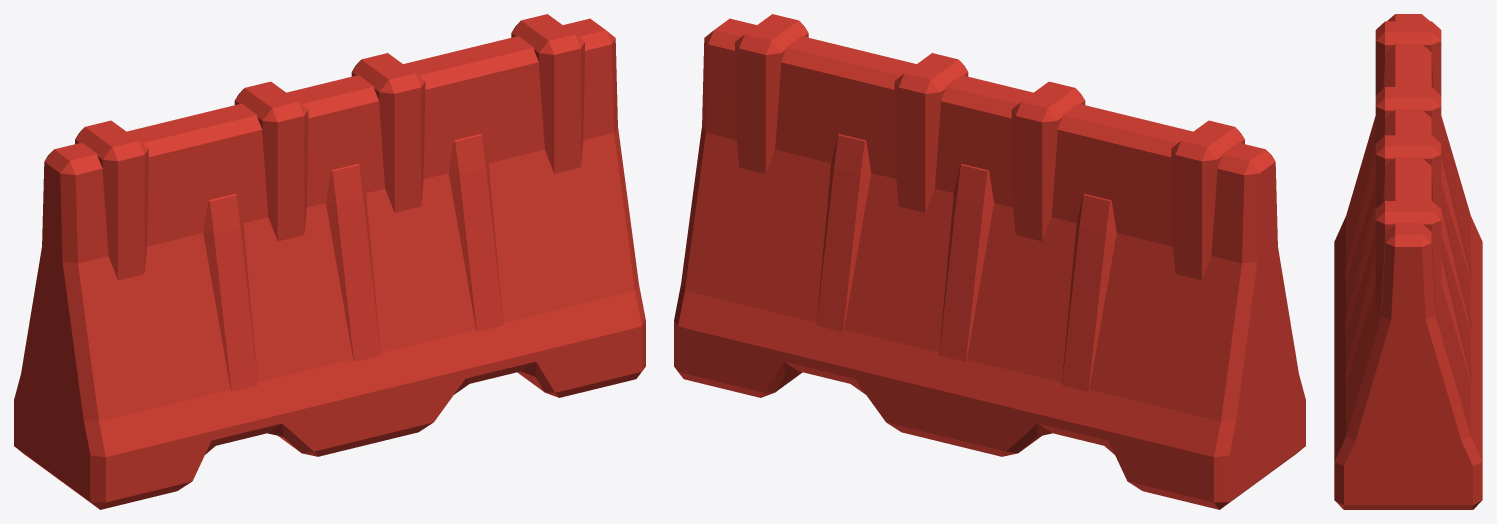
File: Plastic_Barrier_Red.fbx
The picture shows the model from 3 angles, left to right: view 1: azimuth 30°, elevation 25°; view 2: azimuth 150°, elevation 25°; view 3: azimuth 270°, elevation 25°; orthographic projection. The views are drawn at different scales.
Parts seen in each view (by area): view 1: Plastic_Barrier_Red; view 2: Plastic_Barrier_Red; view 3: Plastic_Barrier_Red.
Part boxes in pixels (bbox=[...]): Plastic_Barrier_Red: bbox=[14, 14, 645, 509]; Plastic_Barrier_Red: bbox=[674, 14, 1305, 509]; Plastic_Barrier_Red: bbox=[1334, 14, 1482, 509].
Bounding box in the file's own units: 0.0964 × 0.0557 × 0.0264.
1 material, 1 textured.
